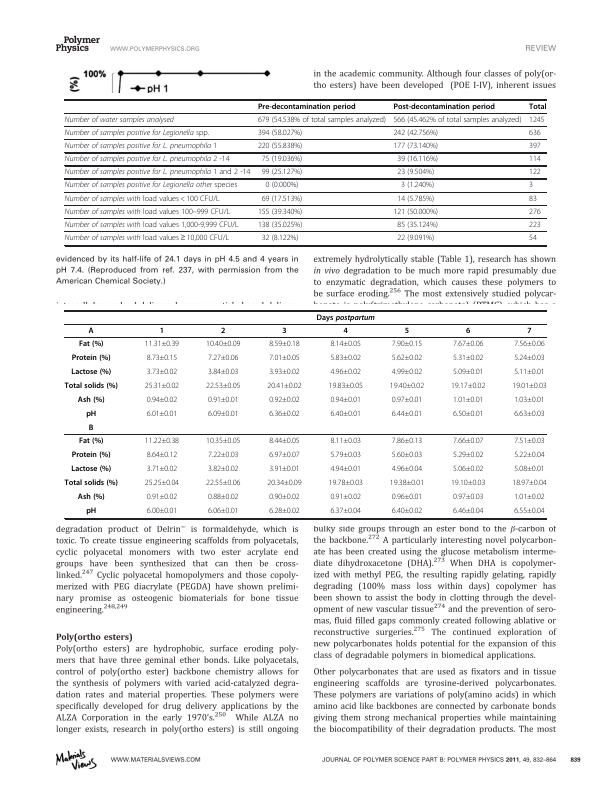borderless: (64, 309, 546, 518), (64, 98, 546, 245)
cell: (64, 220, 240, 230), (64, 168, 251, 177), (64, 207, 231, 217), (64, 154, 230, 164), (64, 233, 230, 243), (64, 181, 238, 190), (64, 141, 218, 151), (64, 128, 210, 138), (64, 194, 220, 203), (257, 115, 387, 125), (392, 115, 522, 125), (64, 115, 175, 125), (392, 102, 496, 111), (257, 102, 356, 111), (64, 381, 119, 391), (64, 478, 119, 488), (316, 313, 376, 322), (392, 128, 439, 138), (392, 141, 439, 151), (392, 207, 439, 217), (257, 128, 303, 138), (257, 141, 303, 151), (257, 207, 303, 217), (257, 220, 303, 230), (396, 154, 439, 164), (396, 220, 439, 230), (261, 154, 303, 164), (70, 367, 112, 377), (70, 464, 112, 474), (71, 353, 111, 363), (71, 450, 111, 460), (396, 233, 435, 243), (261, 233, 299, 243), (261, 168, 303, 177), (261, 194, 303, 203), (396, 168, 435, 177), (396, 194, 435, 203), (264, 181, 299, 190), (400, 181, 435, 190), (77, 395, 105, 405), (77, 492, 105, 502), (78, 339, 104, 349), (78, 436, 104, 446), (144, 340, 180, 347), (205, 340, 241, 347), (144, 382, 180, 389), (205, 382, 241, 389), (266, 382, 302, 389), (328, 382, 364, 389), (389, 382, 425, 389), (450, 382, 486, 389), (511, 382, 547, 389), (144, 437, 180, 444), (205, 437, 241, 444), (144, 479, 180, 486), (205, 479, 241, 486), (266, 479, 302, 486), (328, 479, 364, 486), (389, 479, 425, 486), (450, 479, 486, 486), (511, 479, 547, 486), (268, 340, 301, 347), (329, 340, 362, 347), (513, 340, 546, 347), (268, 354, 301, 361), (329, 354, 362, 361), (513, 354, 546, 361), (268, 368, 301, 375), (329, 368, 362, 375), (513, 368, 546, 375), (268, 396, 301, 403), (329, 396, 362, 403), (513, 396, 546, 403), (268, 410, 301, 417), (329, 410, 362, 417), (513, 410, 546, 417), (268, 437, 301, 444), (329, 437, 362, 444), (513, 437, 546, 444), (268, 451, 301, 458), (329, 451, 362, 458), (513, 451, 546, 458), (268, 465, 301, 472), (329, 465, 362, 472), (513, 465, 546, 472), (268, 493, 301, 500), (329, 493, 362, 500), (513, 493, 546, 500), (268, 507, 301, 514), (329, 507, 362, 514), (513, 507, 546, 514), (391, 340, 423, 347), (452, 340, 484, 347), (146, 354, 178, 361), (207, 354, 239, 361), (391, 354, 423, 361), (452, 354, 484, 361), (146, 368, 178, 375), (207, 368, 239, 375), (391, 368, 423, 375), (452, 368, 484, 375), (146, 396, 178, 403), (207, 396, 239, 403), (391, 396, 423, 403), (452, 396, 484, 403), (146, 410, 178, 417), (207, 410, 239, 417), (391, 410, 423, 417), (452, 410, 484, 417), (391, 437, 423, 444), (452, 437, 484, 444), (146, 451, 178, 458), (207, 451, 239, 458), (391, 451, 423, 458), (452, 451, 484, 458), (146, 465, 178, 472), (207, 465, 239, 472), (391, 465, 423, 472), (452, 465, 484, 472), (146, 493, 178, 500), (207, 493, 239, 500), (391, 493, 423, 500), (452, 493, 484, 500), (146, 507, 178, 514), (207, 507, 239, 514), (391, 507, 423, 514), (452, 507, 484, 514), (528, 102, 547, 111), (528, 115, 545, 125), (528, 128, 542, 138), (528, 141, 542, 151), (528, 154, 542, 164), (528, 207, 542, 217), (528, 220, 542, 230), (528, 168, 542, 177), (85, 409, 97, 419), (85, 506, 97, 516), (528, 233, 538, 243), (528, 194, 538, 203), (88, 326, 95, 336), (342, 326, 349, 336), (159, 326, 165, 336), (220, 326, 226, 336), (281, 326, 287, 336), (404, 326, 410, 336), (465, 326, 471, 336), (526, 326, 532, 336), (88, 423, 94, 433), (528, 181, 534, 190)
